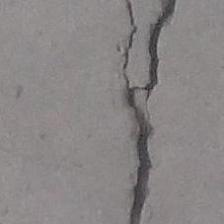Crack: (112, 0, 194, 224)
